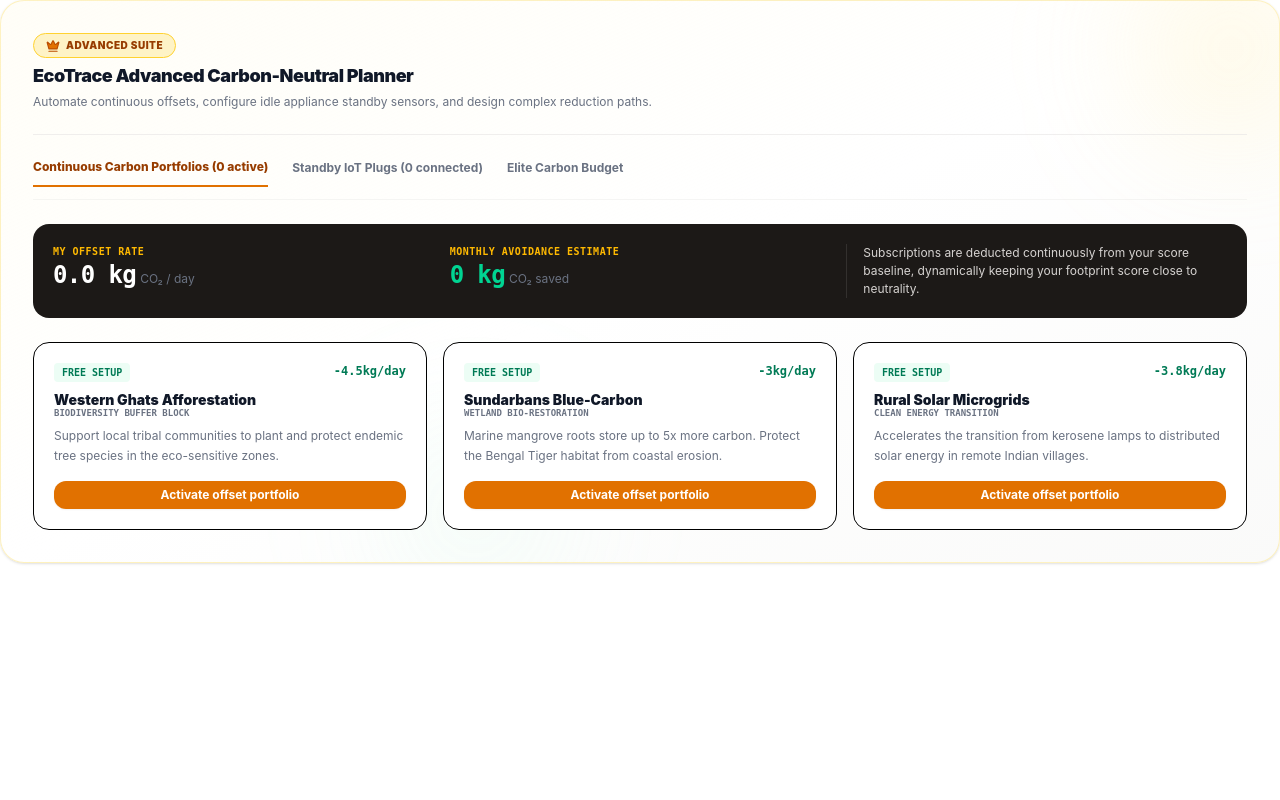
Scenario: PremiumSuite › renders premium features correctly and switches tabs
Expected: the text "Advanced Suite" is shown, [33,33,176,58]
What coordinates should you click on to do the following:
click the button "Standby IoT Plugs (0 connected)"
I would click on:
 (388, 173)
Its box is [292,159,483,187].
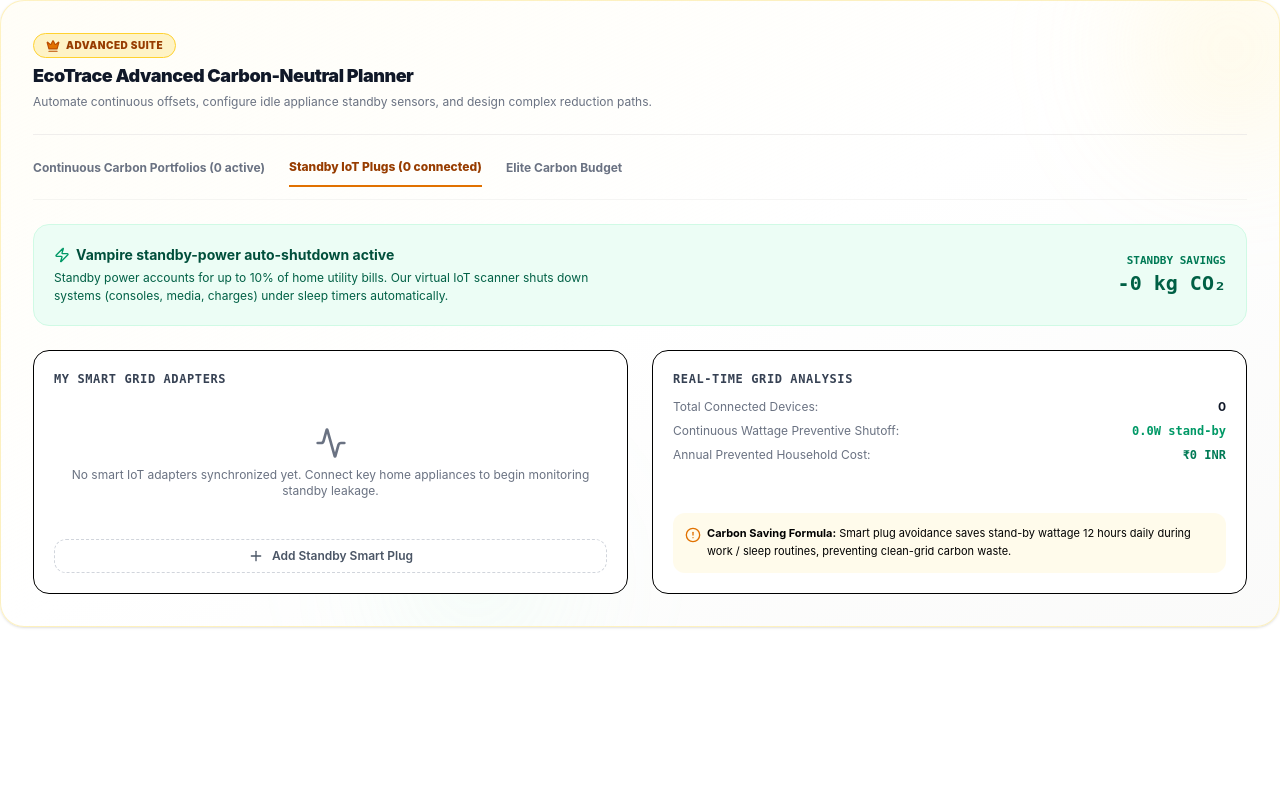
Now the heading "Vampire standby-power auto-shutdown active" is shown, box [54,246,394,263]
What coordinates should you click on to do the following:
click the button "Elite Carbon Budget"
I would click on:
 (564, 173)
Its box is [506,159,622,187].
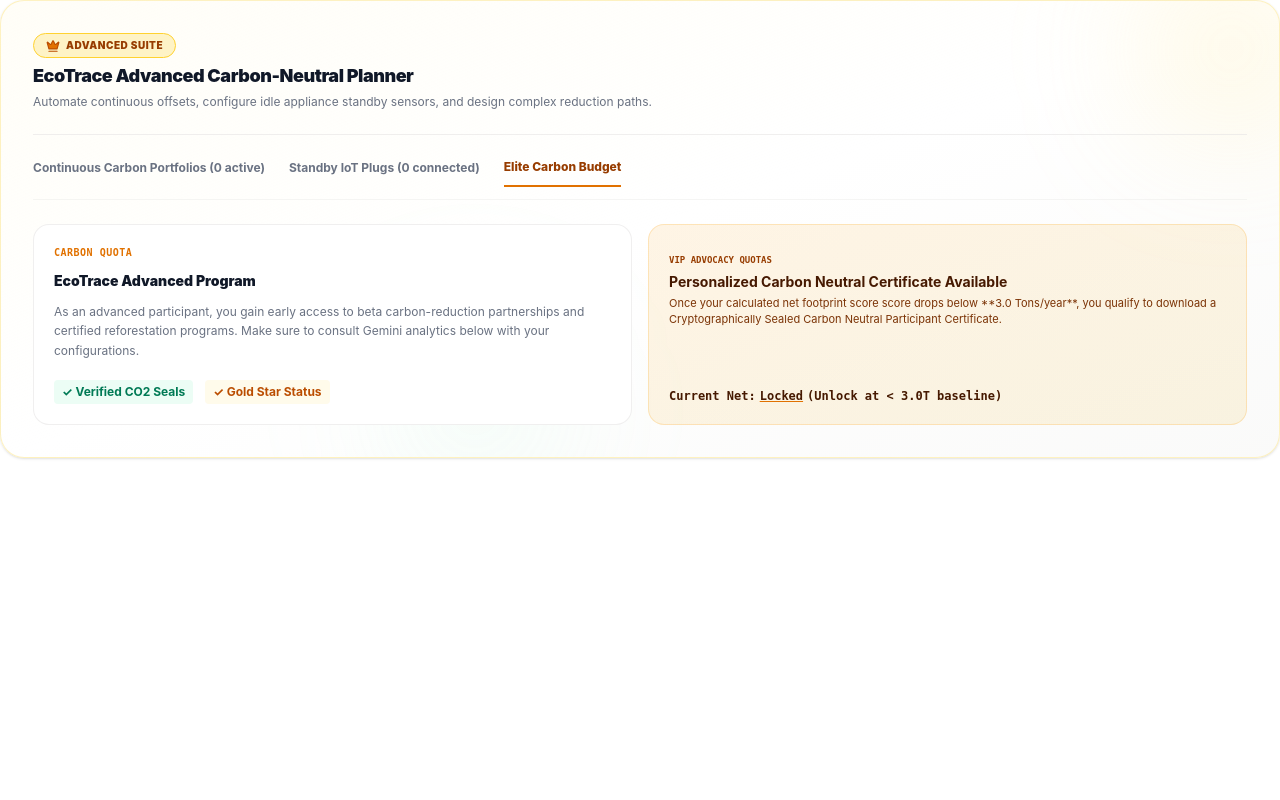
Now the heading "EcoTrace Advanced Program" is shown, box [54,272,256,289]
